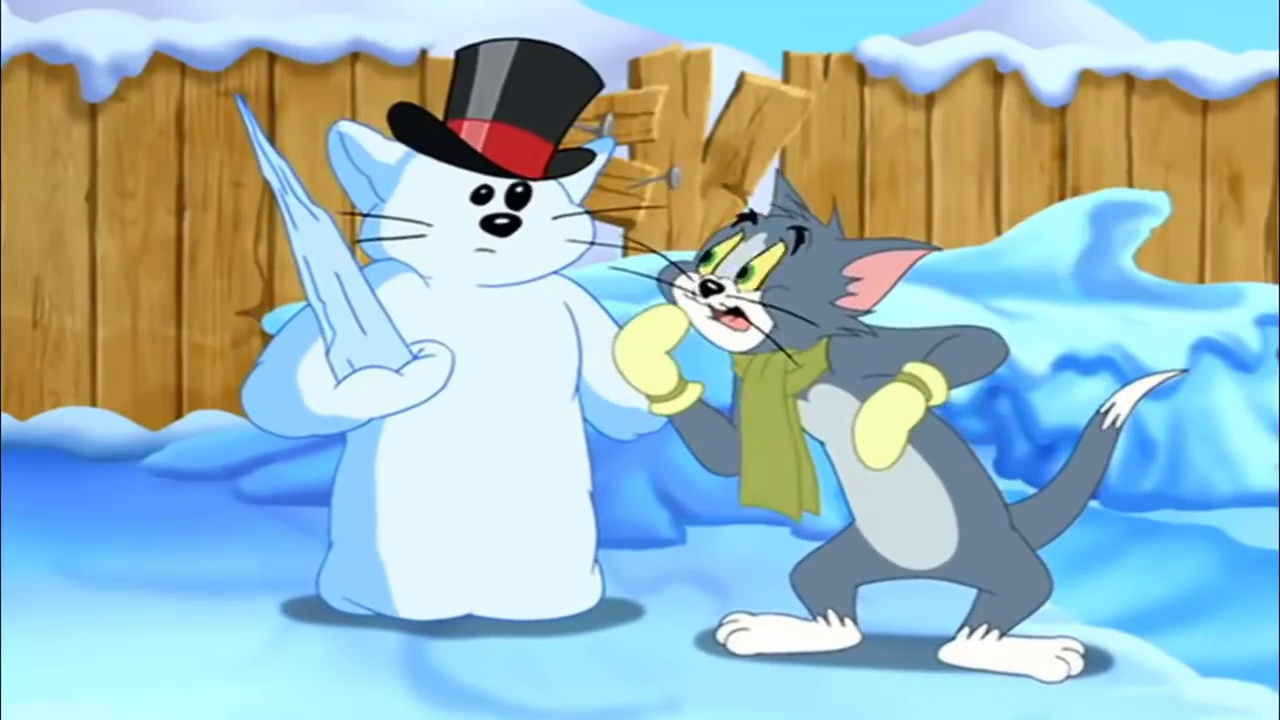face: (670, 207, 814, 356)
